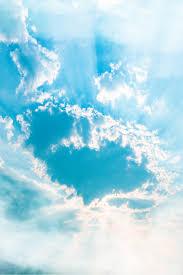sky: (1, 2, 183, 271)
